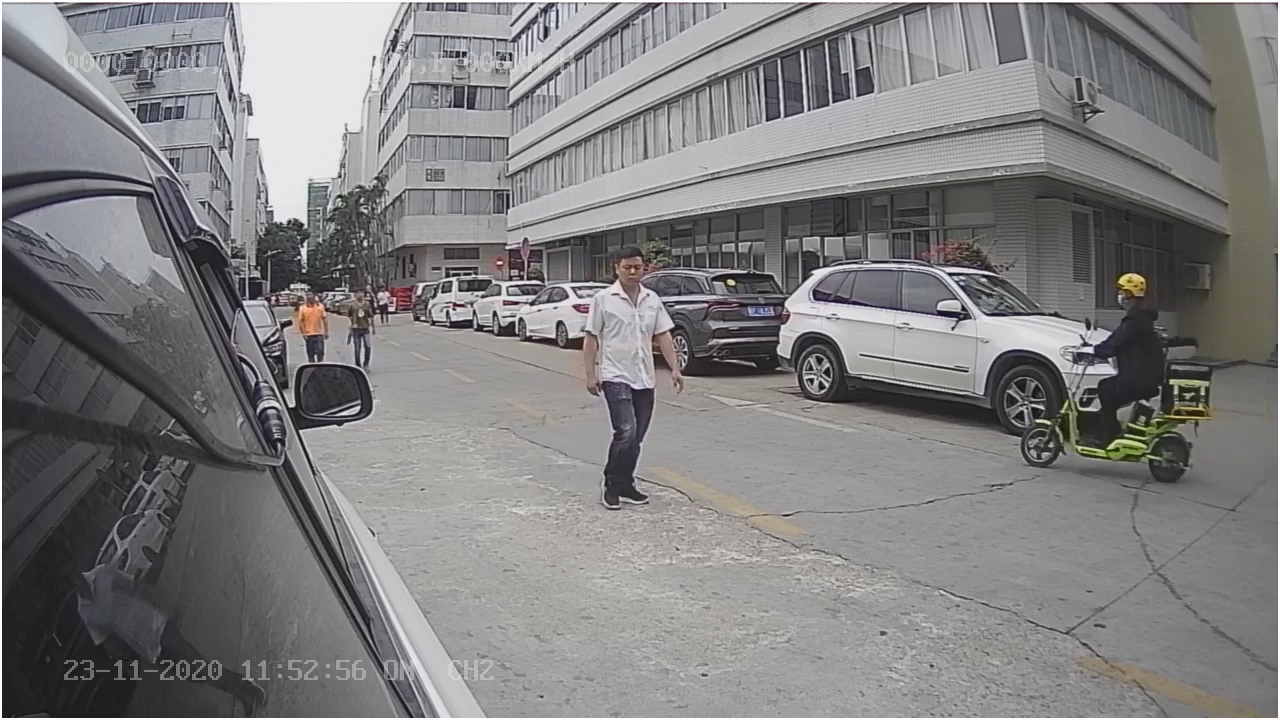person: (581, 250, 684, 509)
